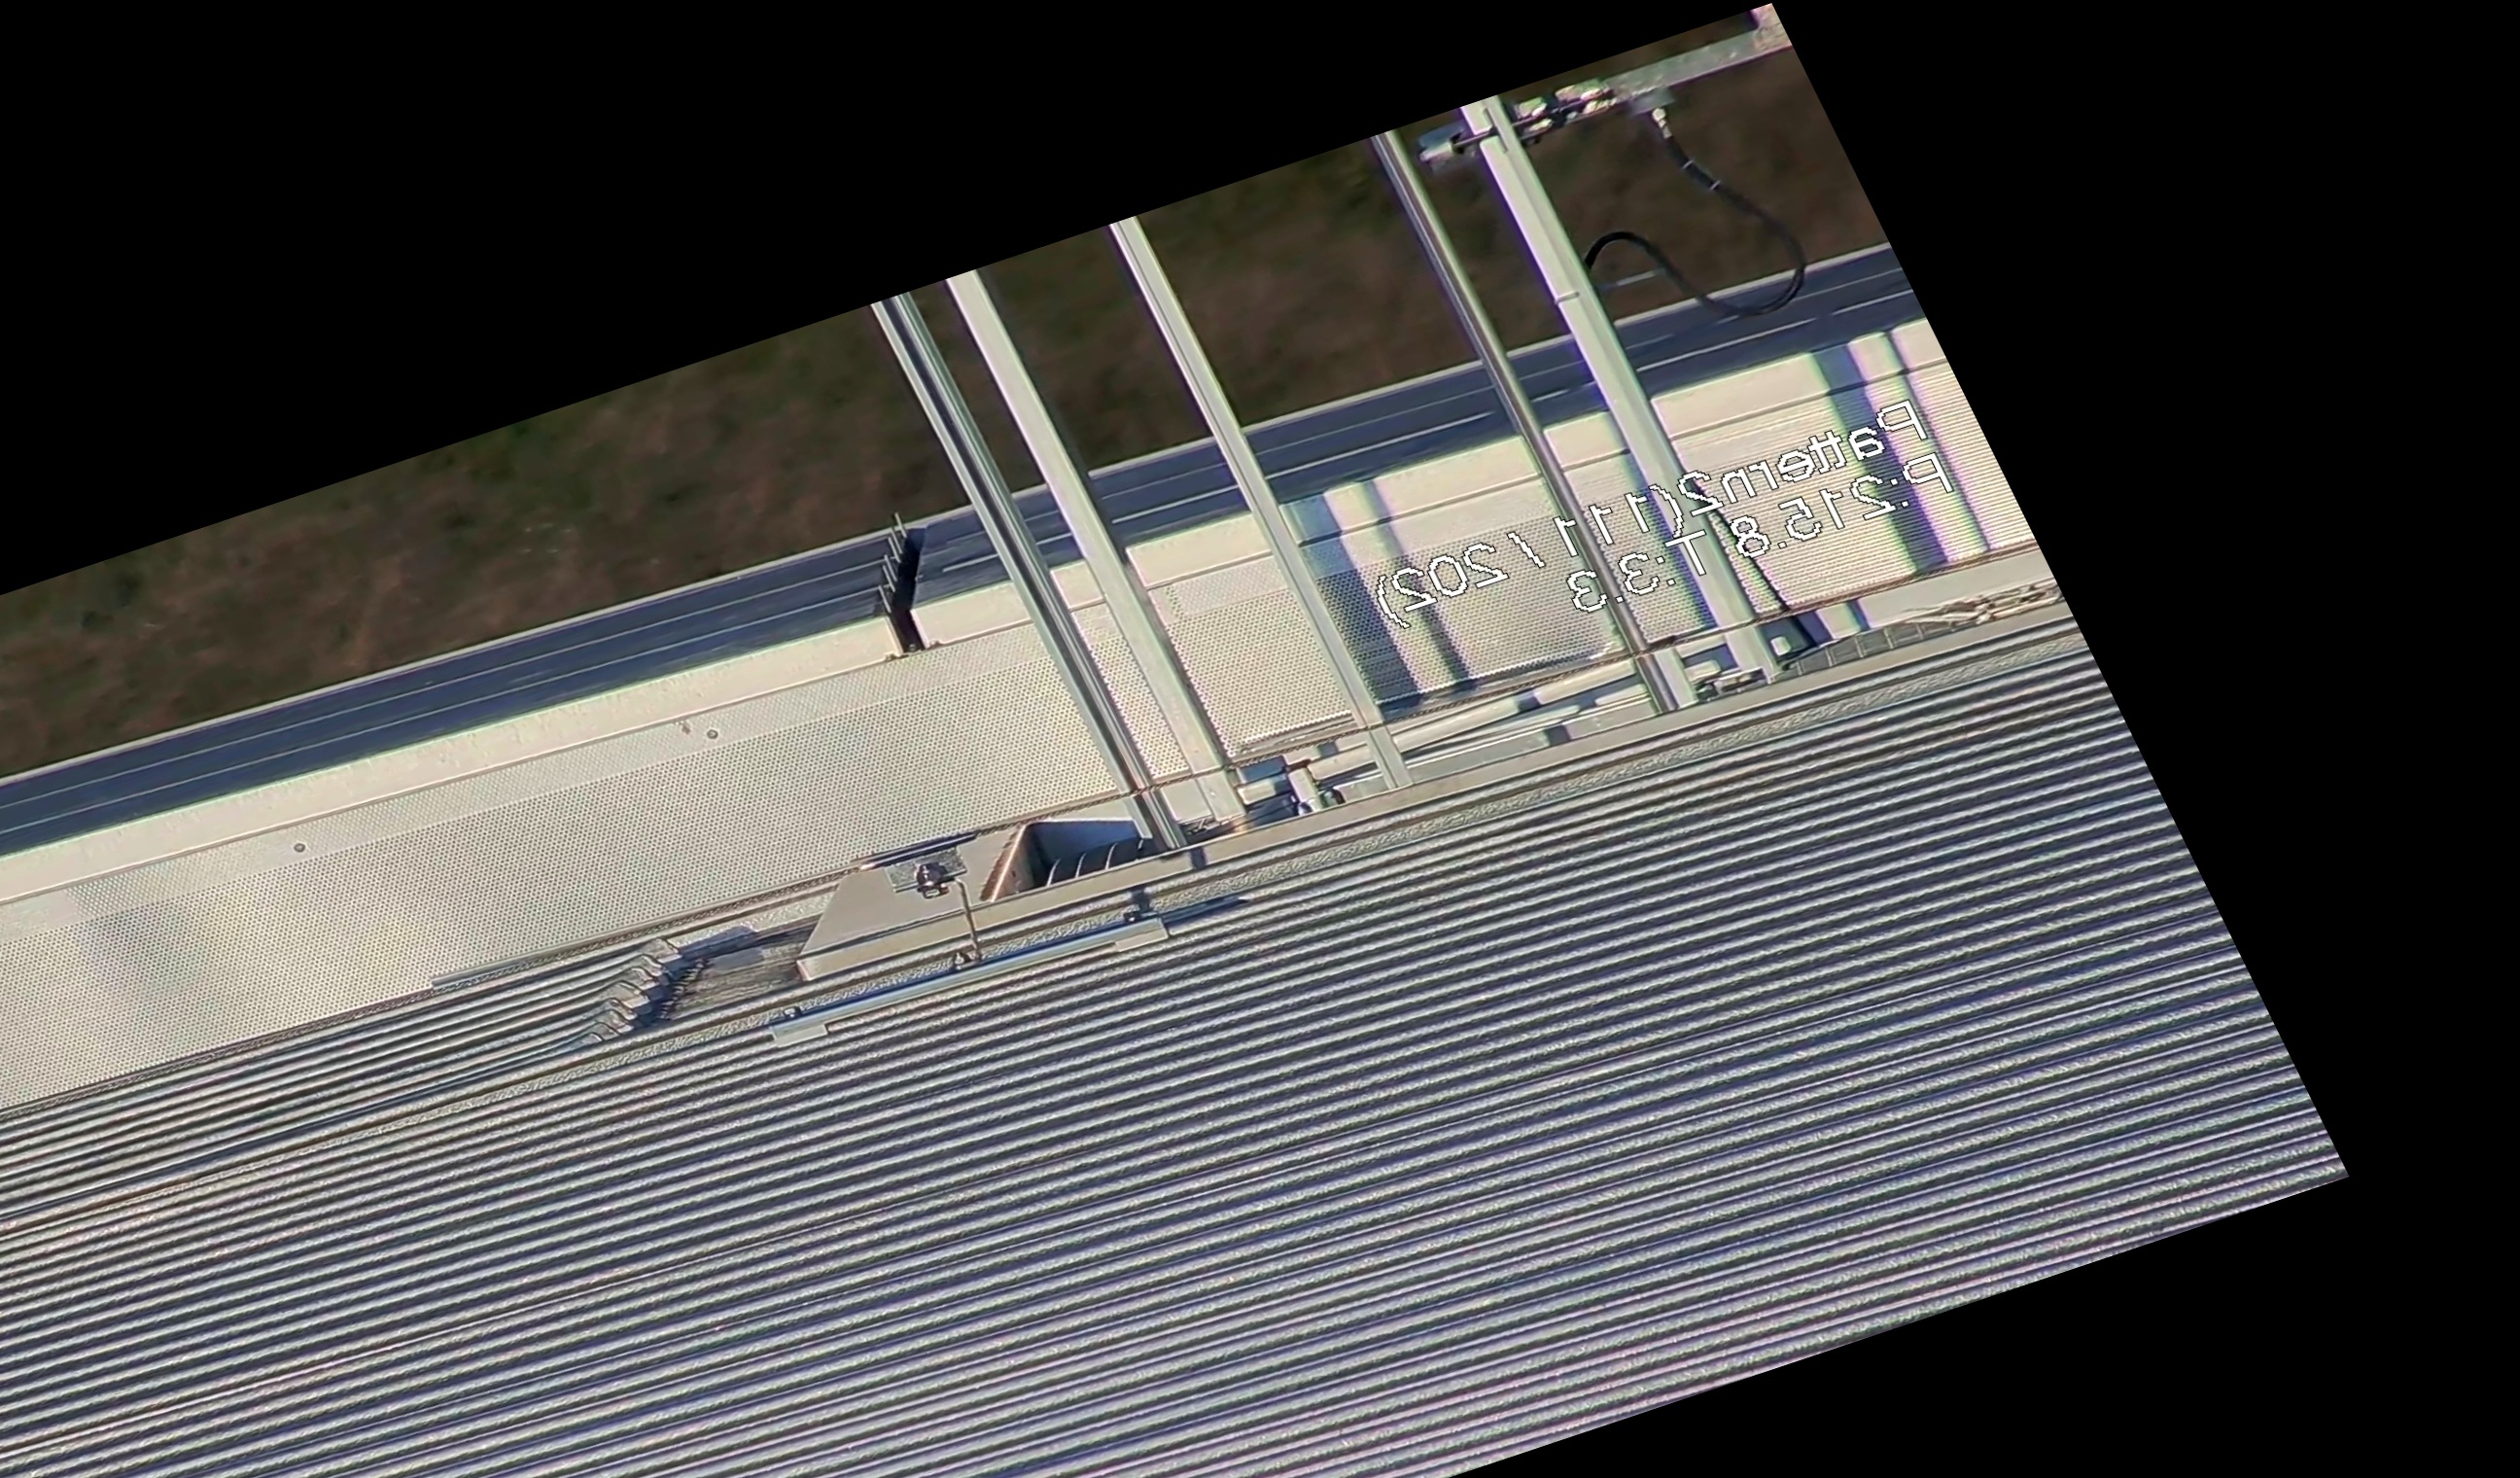Other: (823, 501, 1006, 670)
